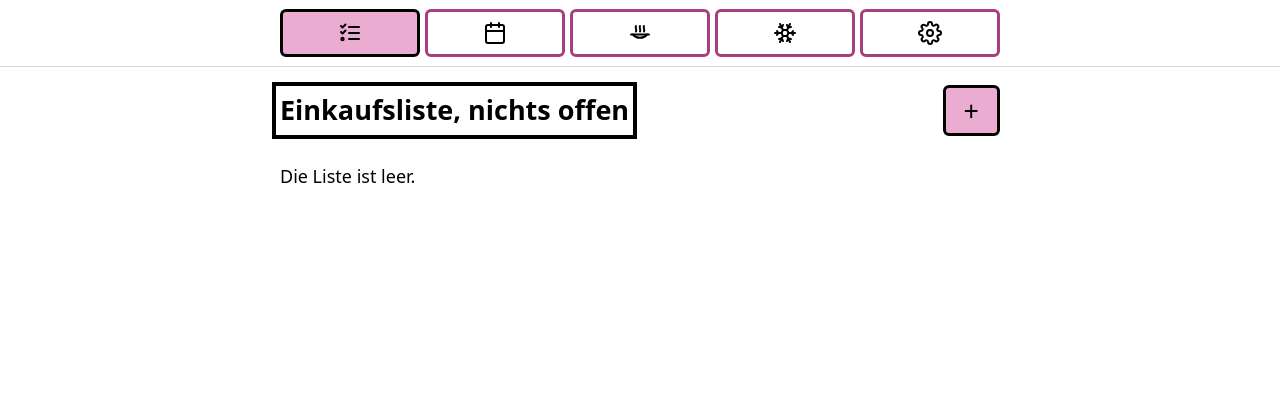
Test: SignedInApp › shows every supply again after leaving the supplies
Click the button named "Vorräte": (785, 33) [715,9,855,57]
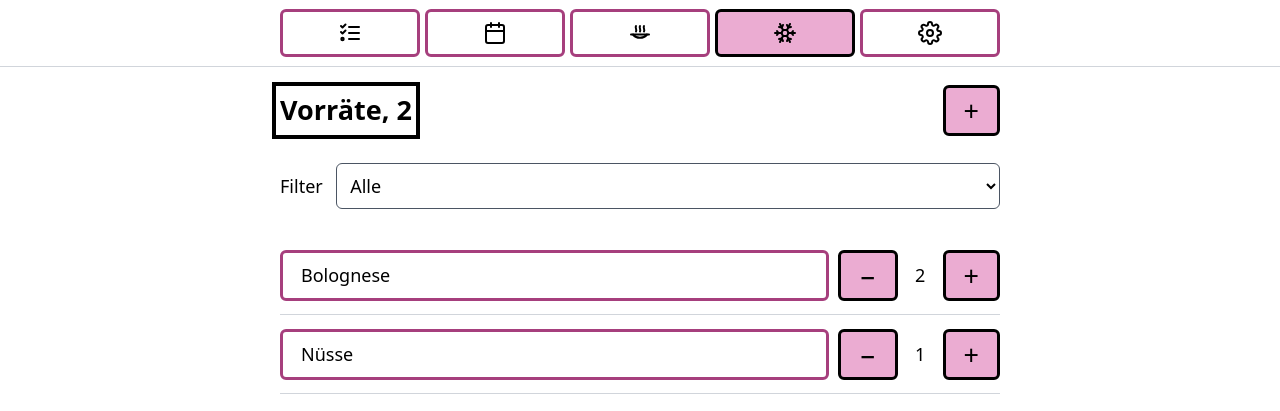
Select "Snack" in the dropdown labelled "Filter": (668, 186) [336,163,1000,209]
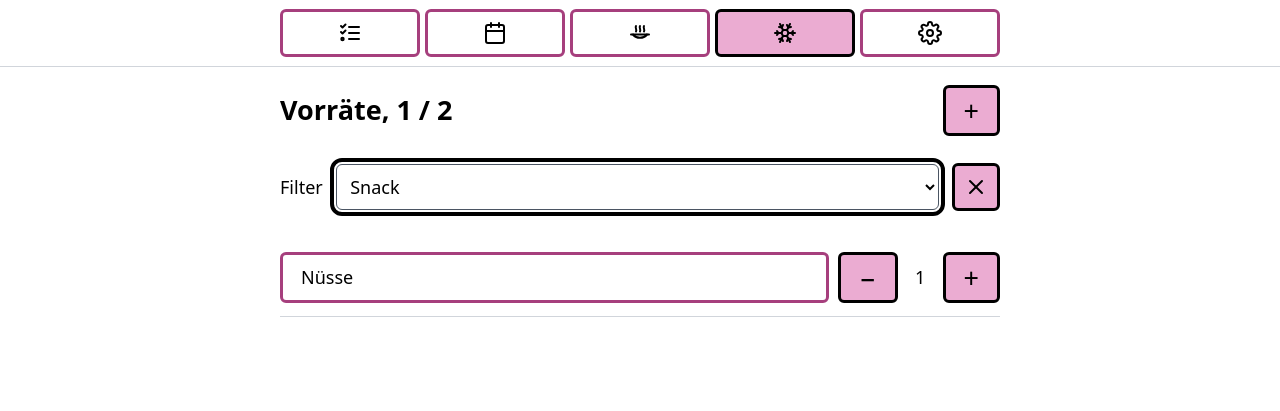
Check: the heading named "Vorräte, 1 von 2" is shown, box [280,90,452,131]
Click the button named "Gerichte": (640, 33) [570,9,710,57]
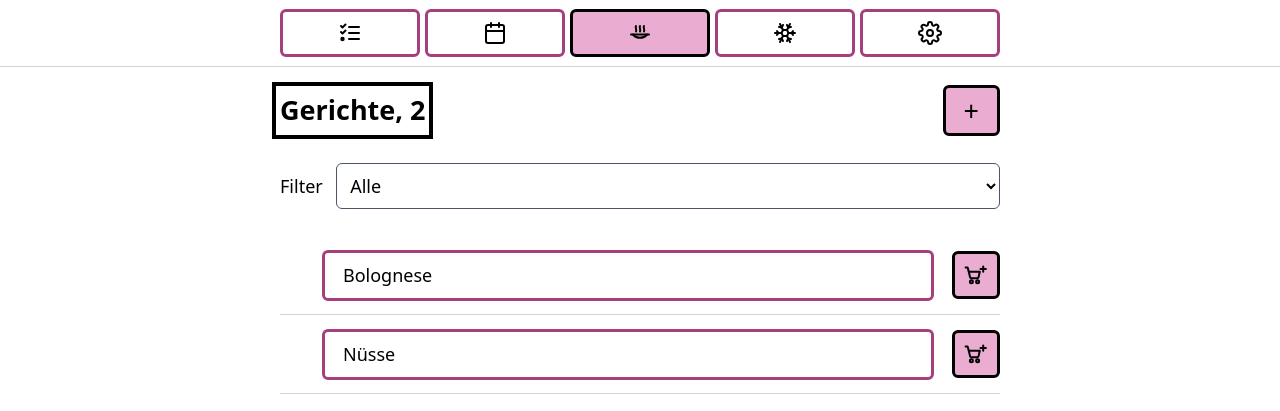
Click the button named "Vorräte": (785, 33) [715,9,855,57]
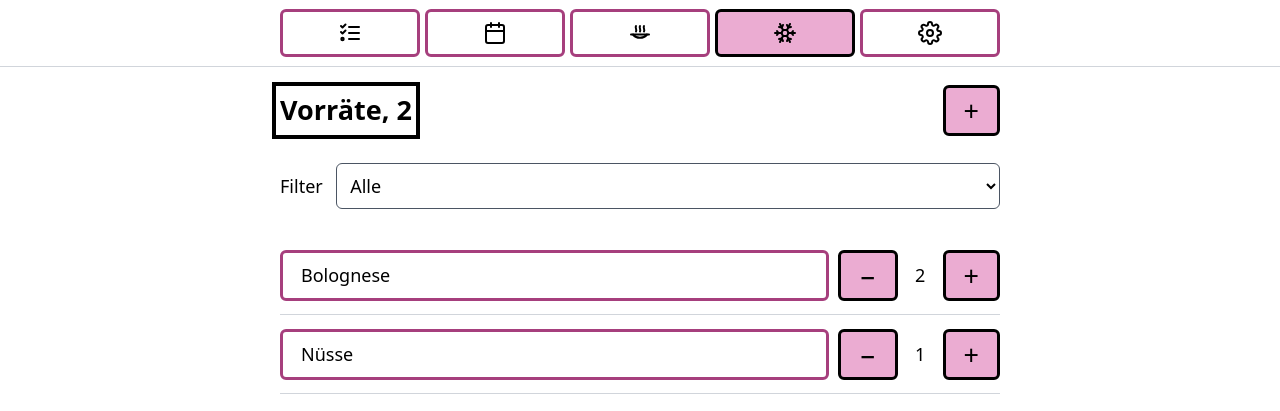
Check: the heading "Vorräte, 2" is shown, box [280,90,412,131]
